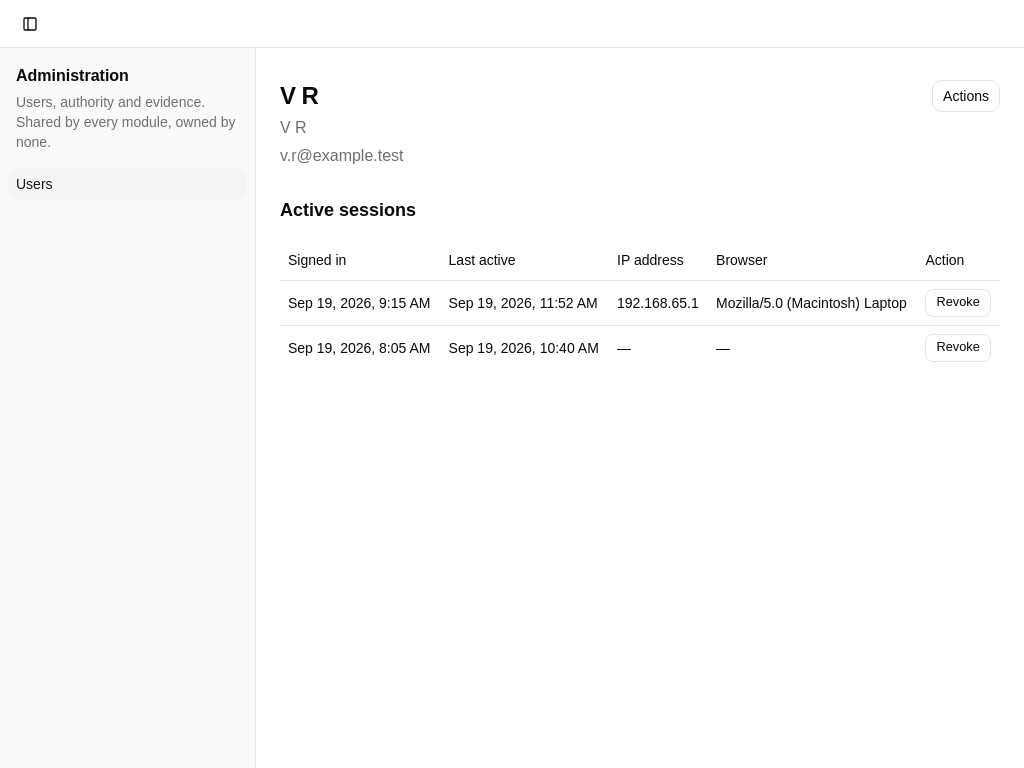
Test: revoking › shows a refusal word for word, keeps the dialog open, and re-reads the sessions
Check: the heading "V R" is shown, box [280,82,318,109]
Click the button with aria-label "Revoke session".
click(958, 302)  # box [926,288,991,316]
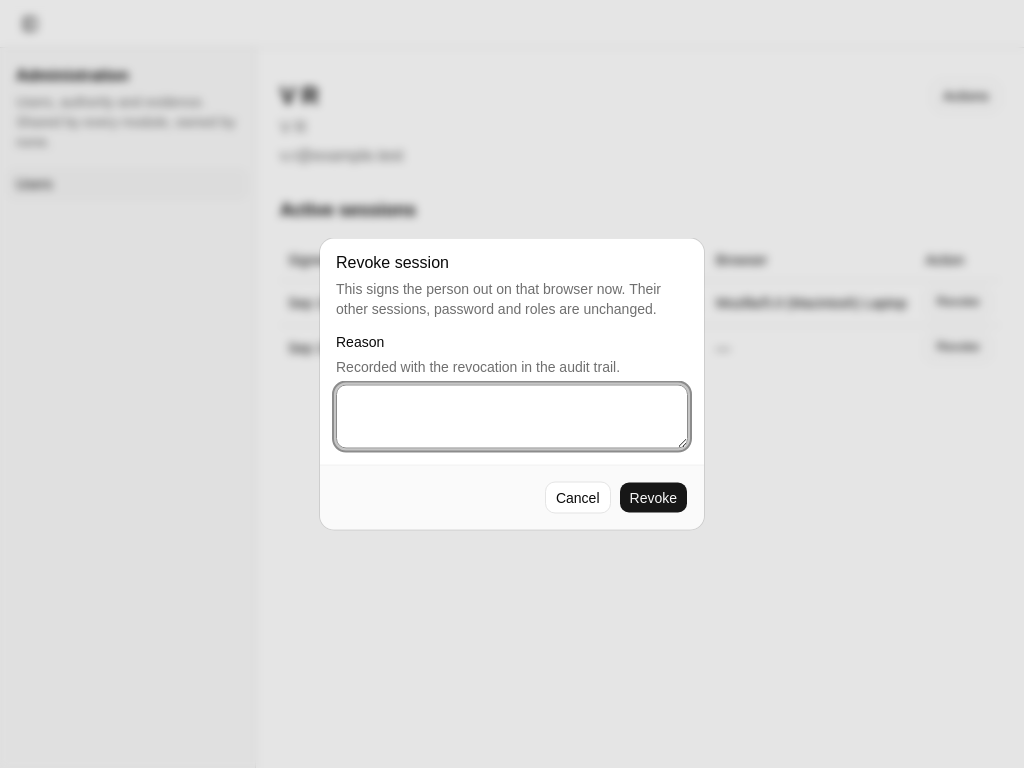
Type "Lost laptop" into the text box labelled "Reason".
click(512, 416); type("Lost laptop")  # box [336,384,688,448]
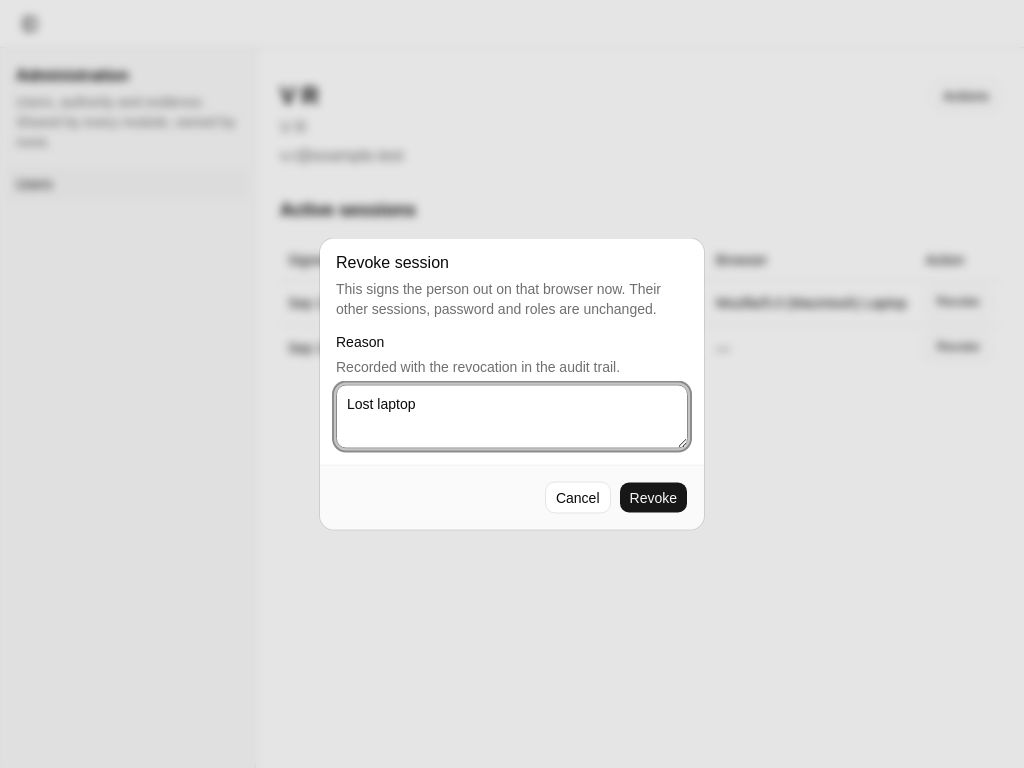
Click the button "Revoke".
click(653, 498)  # box [618,482,688,514]
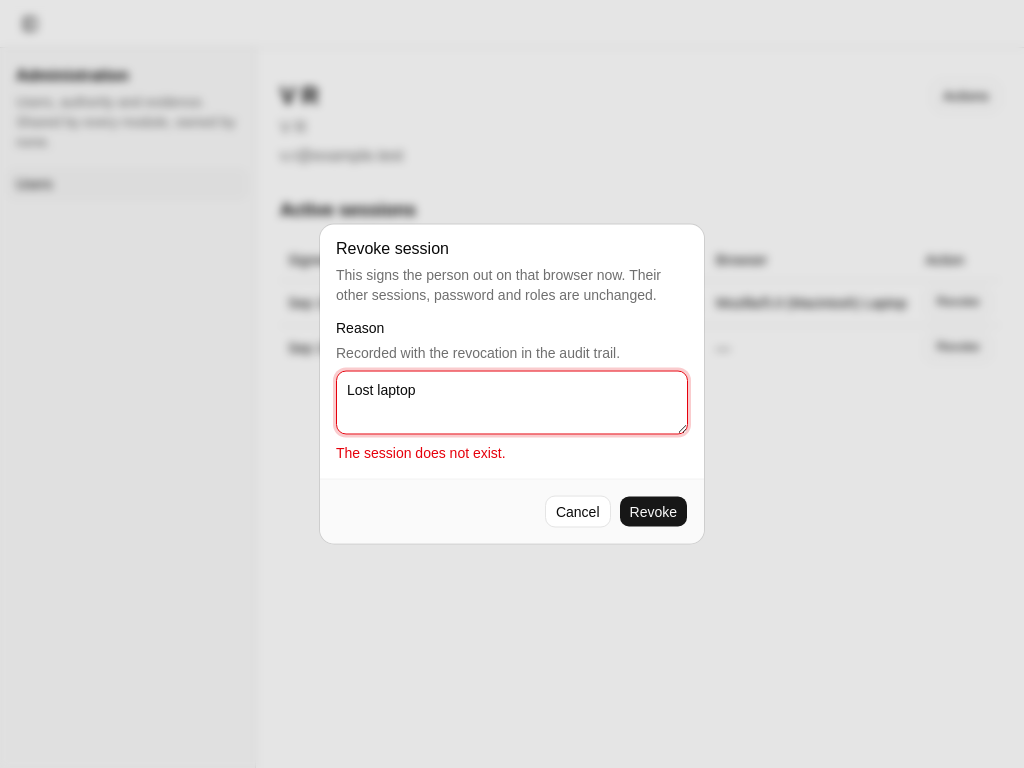
Check: the dialog "Revoke session" is shown, box [320,224,704,544]
Check: the text "The session does not exist." is shown, box [336,444,506,460]
